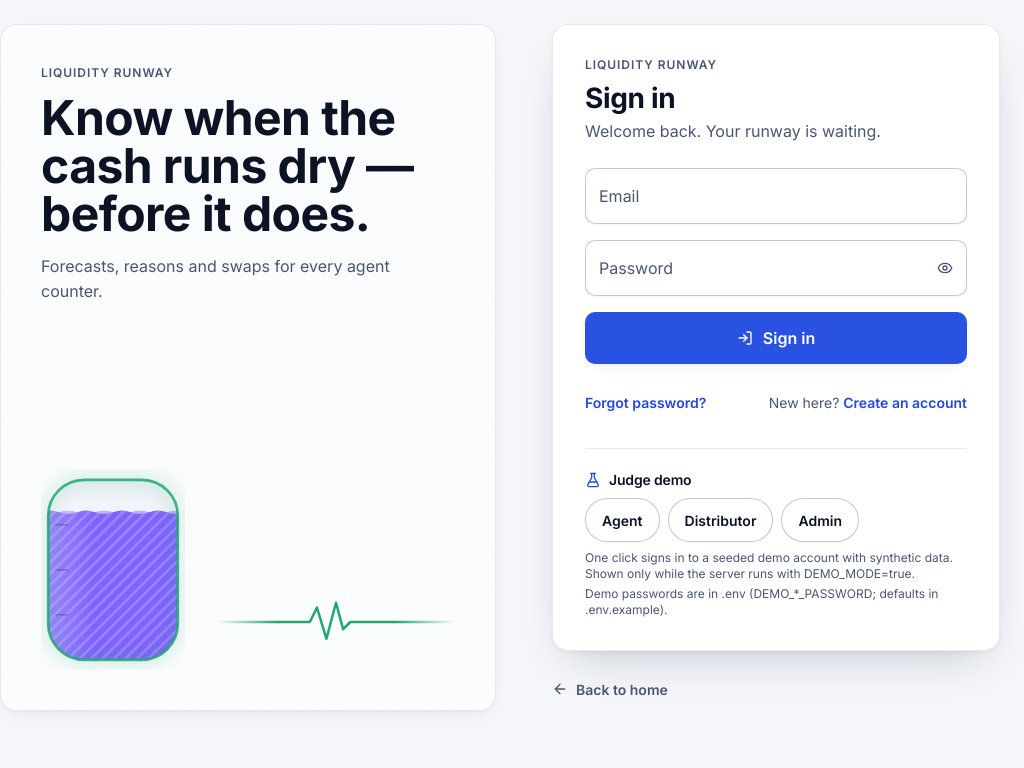
Test case: LoginPage › shows a lockout countdown from Retry-After and blocks submit
The width and height of the screenshot is (1024, 768).
Type "admin@agentpulse.demo" into the field labelled "Email". click: (776, 196)
box: [585,168,967,224]
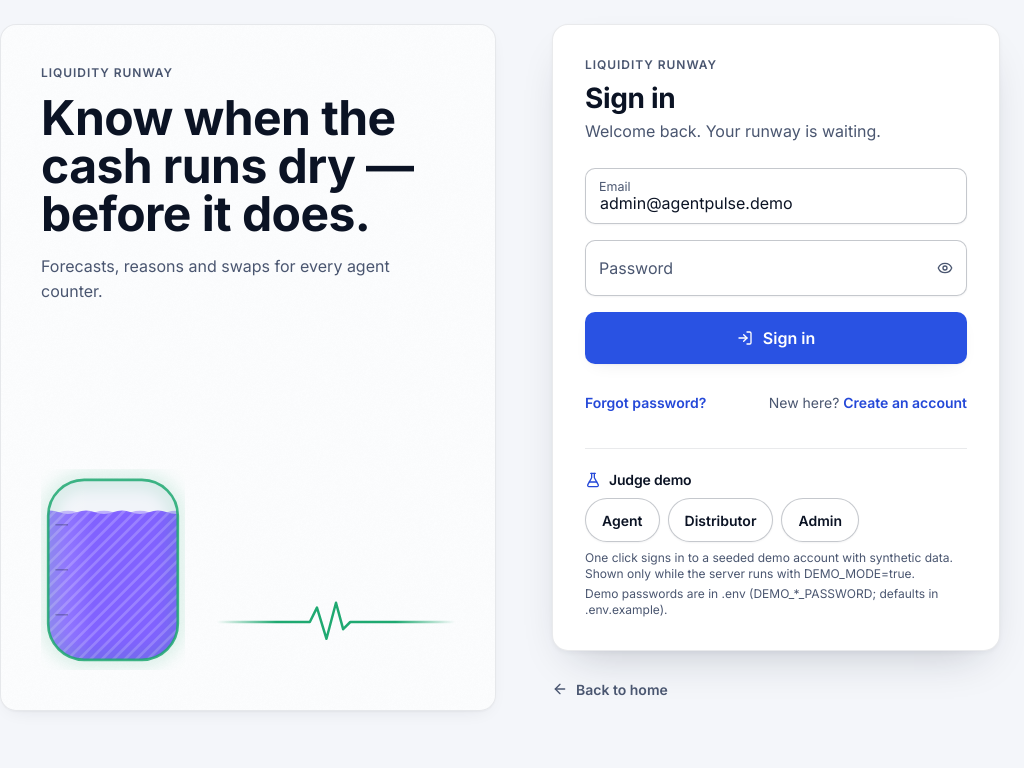
Type "wrong" into the password field labelled "Password". click: (776, 268)
box: [585,240,967,296]
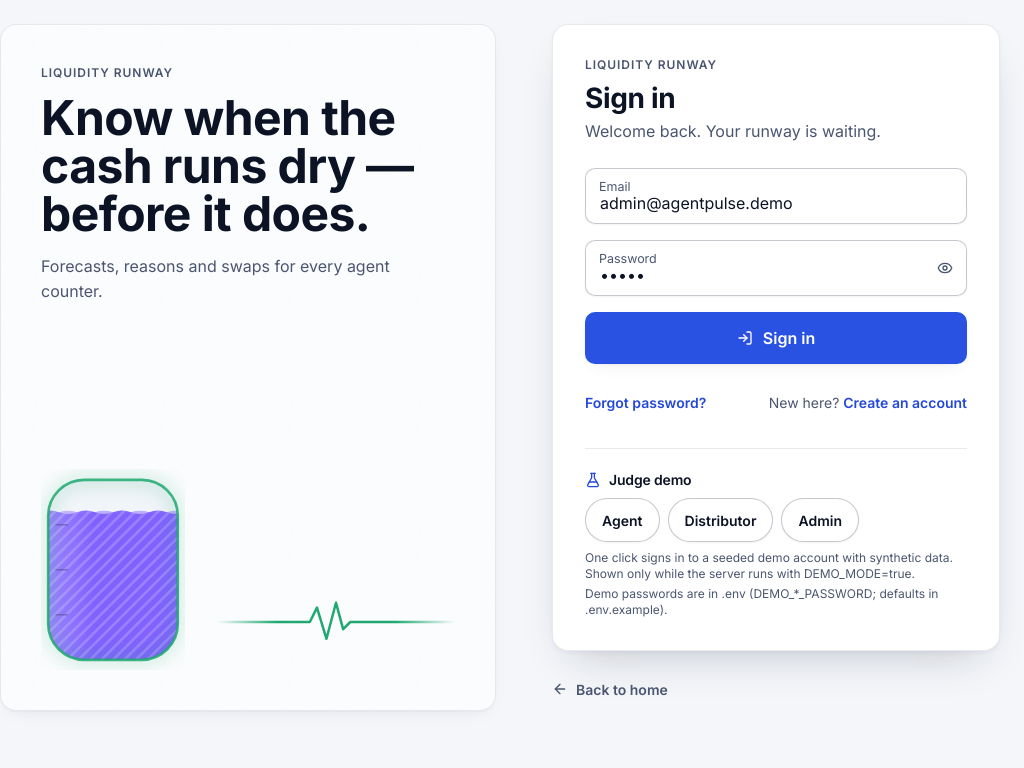
Click the button "Sign in". click: (776, 338)
box: [585,312,967,364]
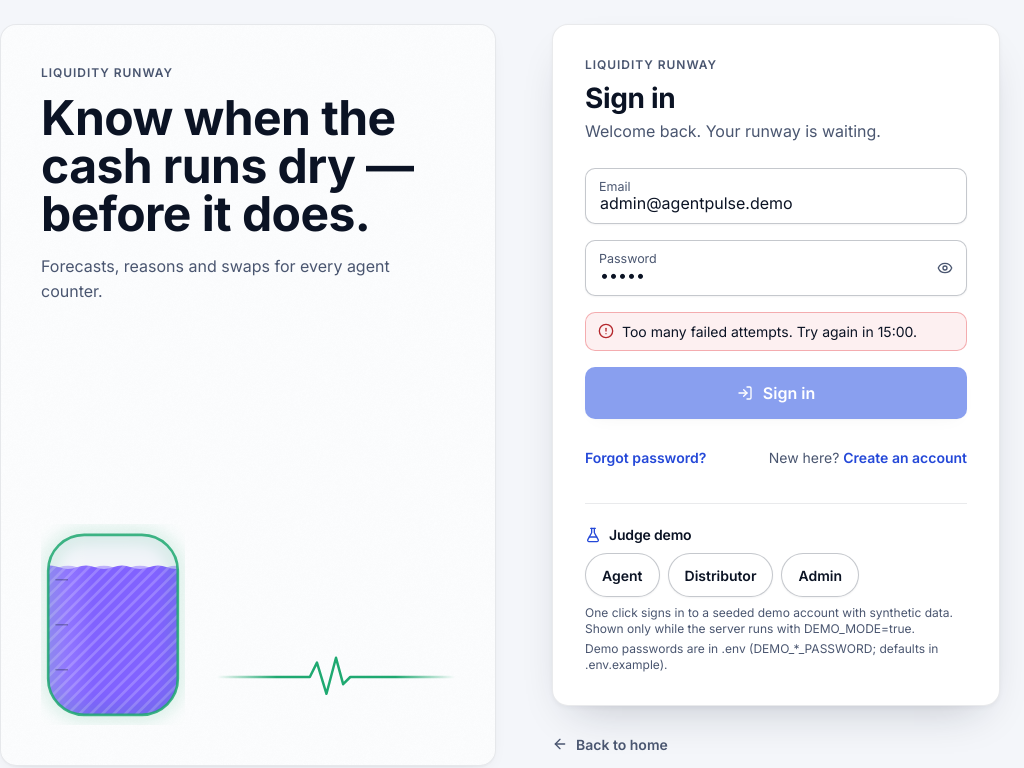
Expected: the message shows "Too many failed attempts", [622,323,917,340]
Expected: the message shows "15:00", [622,323,917,340]
Expected: the button with test id "login-submit" is disabled, [585,367,967,419]
